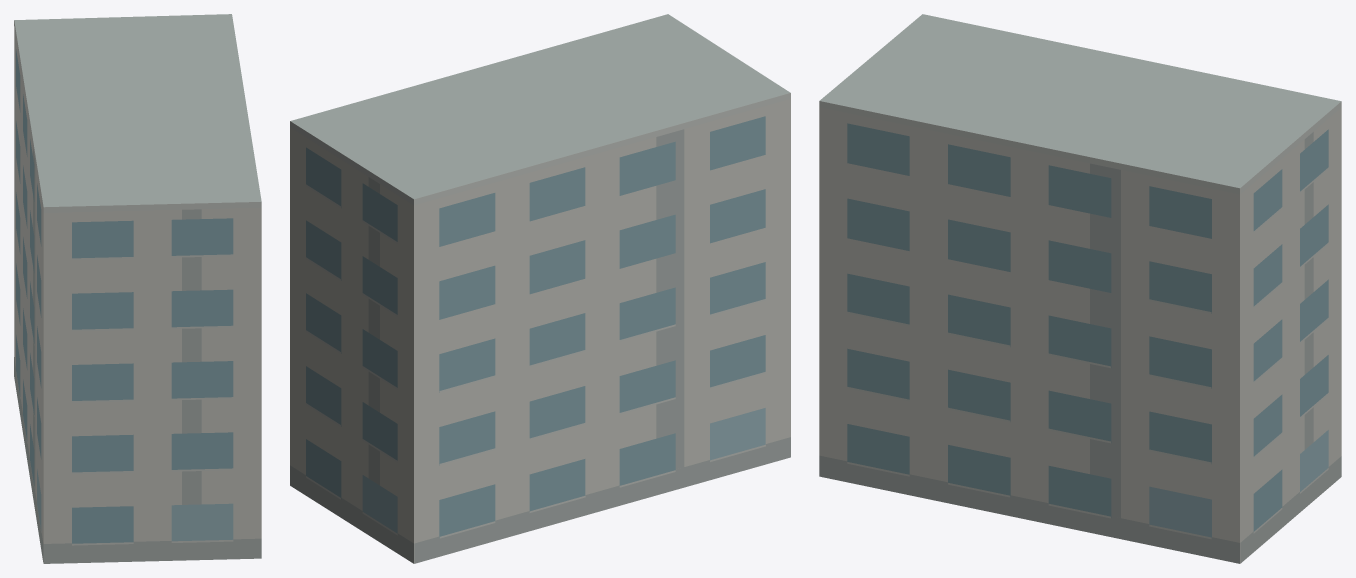
File: survey-upis-32889589.glb
3 views of the same model, side by side, from view 1: azimuth 30°, elevation 25°; view 2: azimuth 150°, elevation 25°; view 3: azimuth 270°, elevation 25° (orthographic). The views are drawn at different scales.
Visible parts, largest first — view 1: survey-upis-32889589.tmp; view 2: survey-upis-32889589.tmp; view 3: survey-upis-32889589.tmp.
Part boxes in pixels (x1,y1,x2,y2): survey-upis-32889589.tmp: (14,14,261,563); survey-upis-32889589.tmp: (290,14,790,563); survey-upis-32889589.tmp: (819,14,1341,563).
Size of the model in its own units: 14.39 by 14.45 by 18.22.
